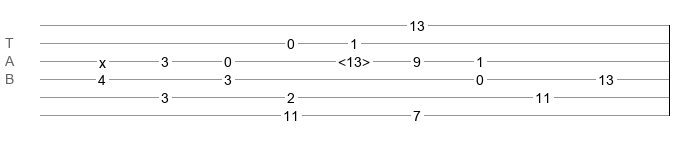0: (224, 54, 232, 64), (287, 36, 295, 46), (476, 72, 484, 82)
1: (350, 36, 358, 46), (476, 54, 484, 64)
11: (283, 108, 299, 118), (535, 90, 551, 100)
13: (409, 18, 425, 28), (598, 72, 614, 82)
2: (287, 90, 295, 100)
3: (161, 54, 169, 64), (161, 90, 169, 100), (224, 72, 232, 82)
4: (98, 72, 106, 82)
7: (413, 108, 421, 118)
9: (413, 54, 421, 64)
harmonic: (338, 54, 370, 64)
x: (99, 55, 106, 63)
